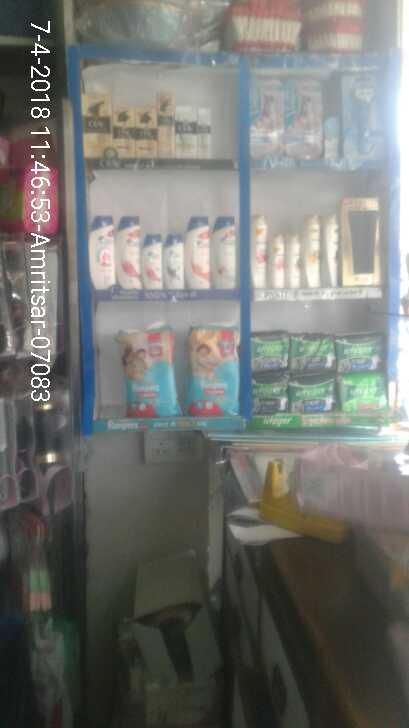venus: (346, 74, 381, 153), (252, 78, 283, 153), (286, 80, 318, 152)
